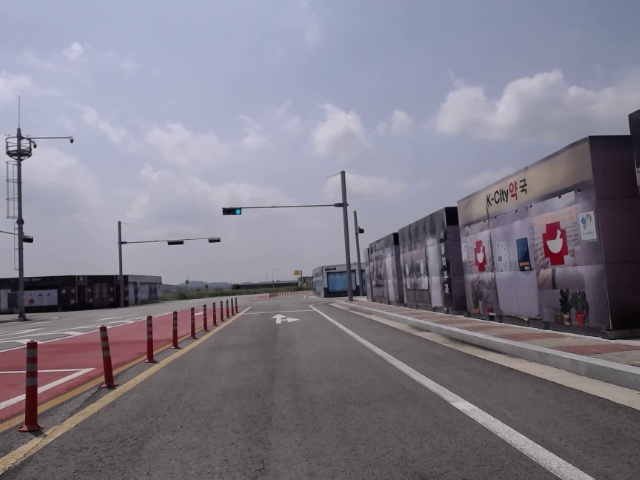green_3: (222, 207, 242, 215)
